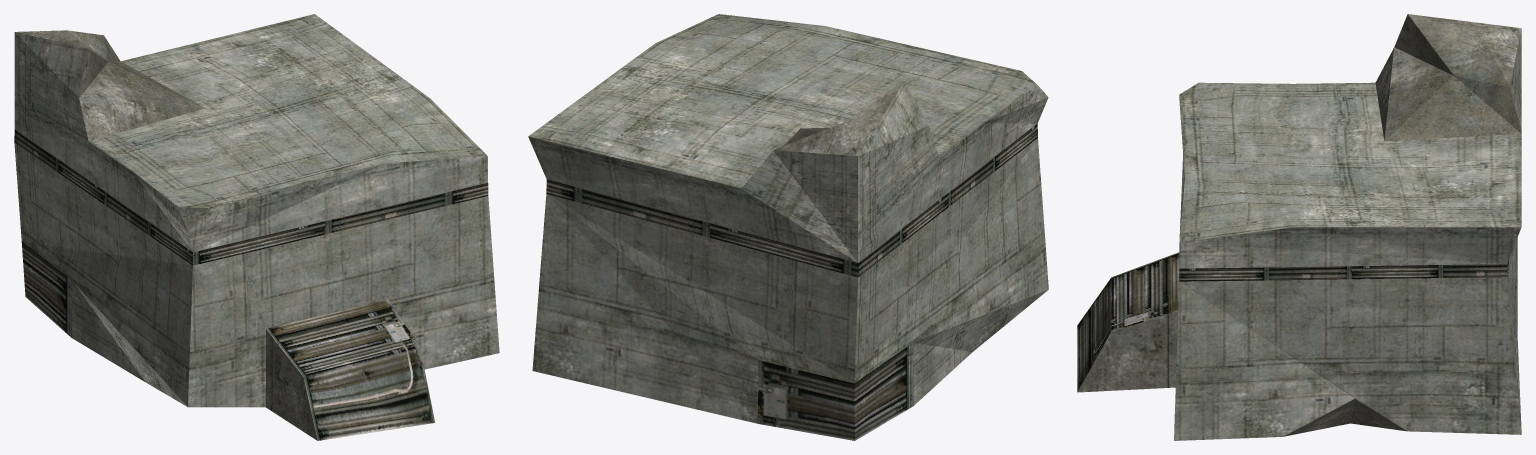
The model's file is thm_prp_junk_s4_l1.fbx.
The picture shows the model from 3 angles, left to right: view 1: azimuth 30°, elevation 25°; view 2: azimuth 150°, elevation 25°; view 3: azimuth 270°, elevation 25°; orthographic projection. The views are drawn at different scales.
Visible parts, largest first — view 1: mesh_node; view 2: mesh_node; view 3: mesh_node.
Part boxes in pixels (<box>): mesh_node: <box>14,14,499,440</box>; mesh_node: <box>528,14,1048,440</box>; mesh_node: <box>1077,14,1521,440</box>.
Size of the model in its own units: 3.08 by 2.82 by 3.89.
